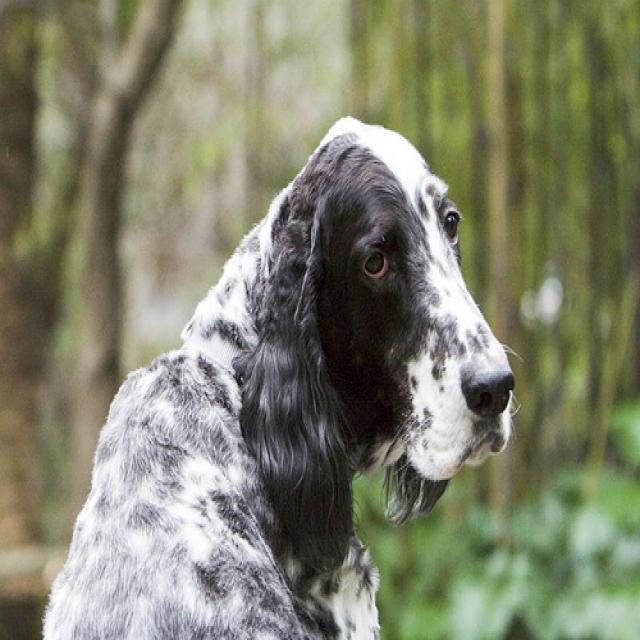dog-english_setter: (24, 113, 517, 636)
